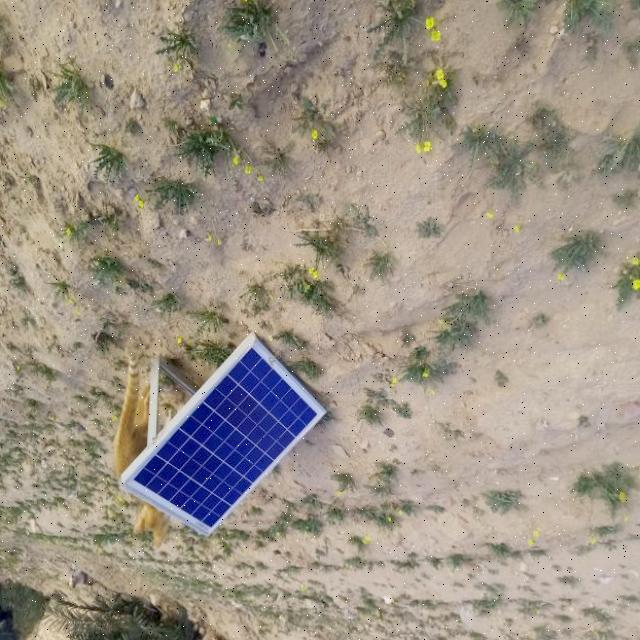Normal Solar Panel: (126, 332, 324, 534)
